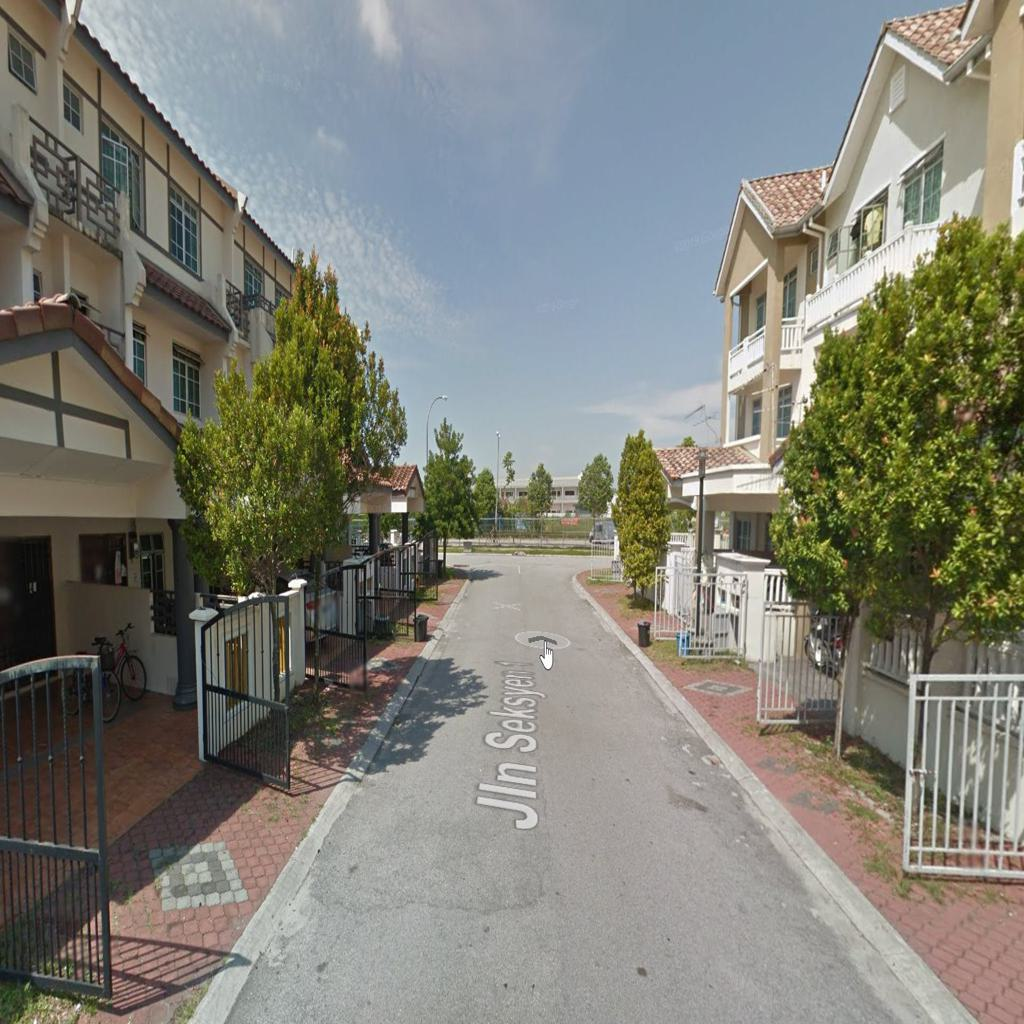Junction: (557, 546, 619, 598), (443, 538, 497, 590)
